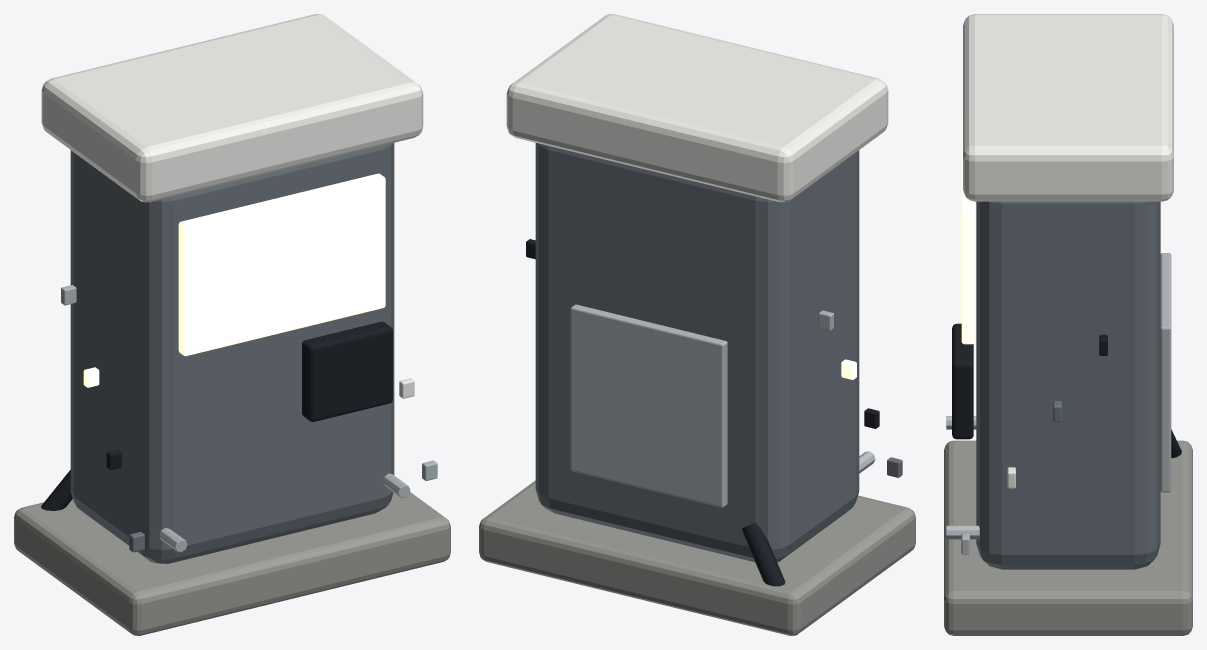
The model's file is infrastructure_starter-town-delivery-keypad-standard-068.glb.
3 renders of one model, left to right at view 1: azimuth 30°, elevation 25°; view 2: azimuth 150°, elevation 25°; view 3: azimuth 270°, elevation 25°, orthographic.
Visible parts, largest first — view 1: component__structural_enclosure_or_frame__enclosure, component__safety_and_weather_protection__weather_hood, component__anchored_base_or_mount__base_mount, component__primary_operating_surface__operating_surface, component__user_control_or_connection__control, component__power_conduit_drainage_or_network_path__service_p; view 2: component__structural_enclosure_or_frame__enclosure, component__safety_and_weather_protection__weather_hood, component__anchored_base_or_mount__base_mount, component__service_access__service_access, component__power_conduit_drainage_or_network_path__service_p; view 3: component__structural_enclosure_or_frame__enclosure, component__safety_and_weather_protection__weather_hood, component__anchored_base_or_mount__base_mount, component__service_access__service_access, component__user_control_or_connection__control, component__primary_operating_surface__operating_surface, component__fasteners_and_identification__fastener.
Boxes of the visible parts, bbox=[...] form: component__structural_enclosure_or_frame__enclosure: bbox=[70, 143, 394, 563]; component__safety_and_weather_protection__weather_hood: bbox=[41, 14, 423, 202]; component__anchored_base_or_mount__base_mount: bbox=[14, 492, 450, 635]; component__primary_operating_surface__operating_surface: bbox=[178, 173, 385, 356]; component__user_control_or_connection__control: bbox=[302, 321, 392, 421]; component__power_conduit_drainage_or_network_path__service_p: bbox=[41, 470, 72, 510]; component__structural_enclosure_or_frame__enclosure: bbox=[535, 143, 859, 562]; component__safety_and_weather_protection__weather_hood: bbox=[506, 14, 888, 202]; component__anchored_base_or_mount__base_mount: bbox=[479, 480, 915, 635]; component__service_access__service_access: bbox=[570, 304, 727, 507]; component__power_conduit_drainage_or_network_path__service_p: bbox=[741, 522, 785, 586]; component__structural_enclosure_or_frame__enclosure: bbox=[976, 201, 1160, 569]; component__safety_and_weather_protection__weather_hood: bbox=[963, 14, 1173, 201]; component__anchored_base_or_mount__base_mount: bbox=[944, 440, 1192, 635]; component__service_access__service_access: bbox=[1160, 253, 1171, 492]; component__user_control_or_connection__control: bbox=[952, 323, 973, 439]; component__primary_operating_surface__operating_surface: bbox=[961, 115, 974, 344]; component__fasteners_and_identification__fastener: bbox=[946, 525, 979, 539].
Bounding box in the file's own units: 1.1 × 1.57 × 0.736.
